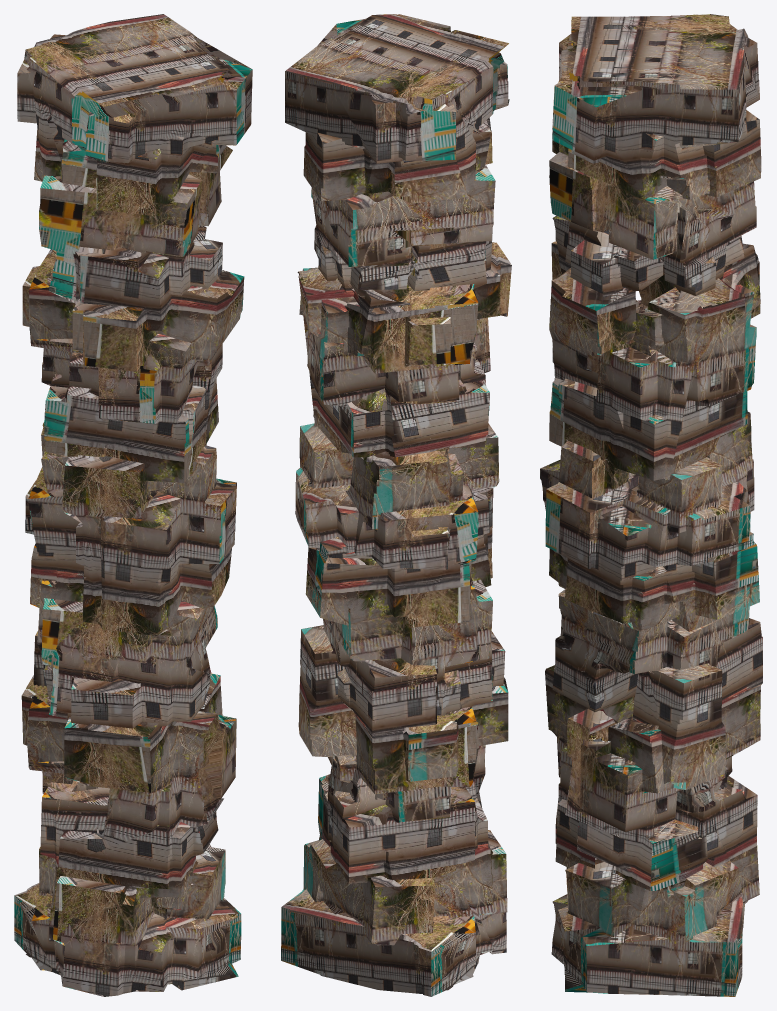
File: CubeTower.gltf
3 views of the same model, side by side, from view 1: azimuth 30°, elevation 25°; view 2: azimuth 150°, elevation 25°; view 3: azimuth 270°, elevation 25° (orthographic).
Parts seen in each view (by area): view 1: CubeTowerTry; view 2: CubeTowerTry; view 3: CubeTowerTry.
Boxes of the visible parts, x1,y1,x2,y2 form: CubeTowerTry: (14,14,252,996); CubeTowerTry: (281,14,511,996); CubeTowerTry: (540,14,762,996).
Bounding box in the file's own units: 3.48 × 16.04 × 3.56.
Materials: 1 (1 with a texture image).
